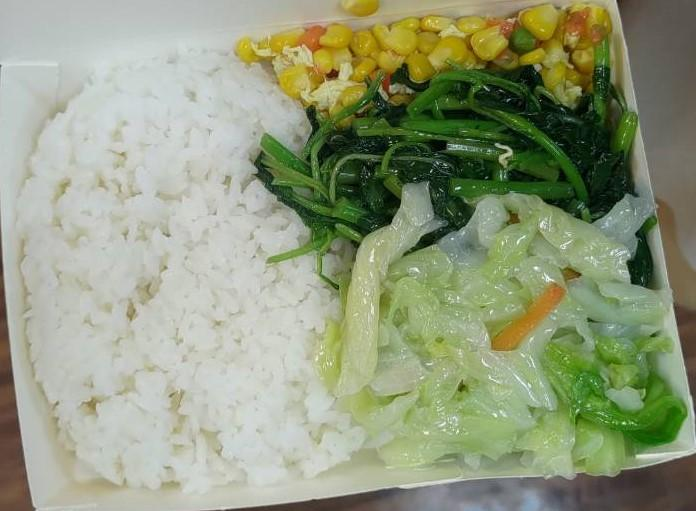big grilled chicken leg: (2, 9, 696, 511)
big herbal chicken leg: (7, 61, 370, 487)
braised fish fillet: (330, 235, 678, 463), (274, 88, 645, 261), (250, 15, 614, 110)
